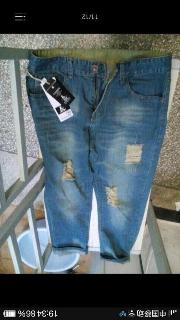trousers: (26, 48, 172, 264)
